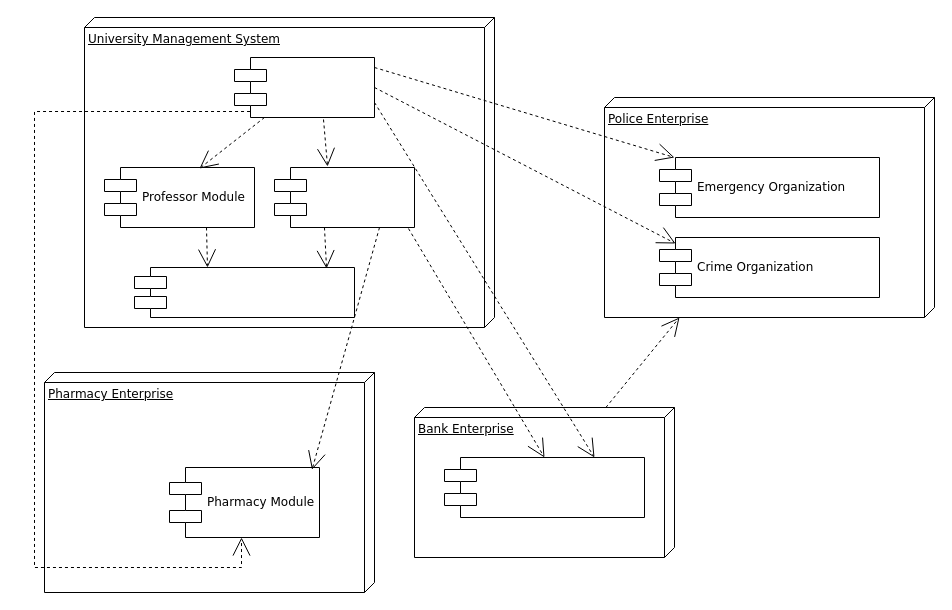
The diagram is 952 pixels wide and 610 high, and some of its shapes have lost their labels. Here are the shapes that lost their labels. From the top down, the centre of each, then its label:
pixel 304 87: Admin Module
pixel 344 197: Student Module
pixel 244 292: Course Management Module
pixel 544 487: Bank Organization
